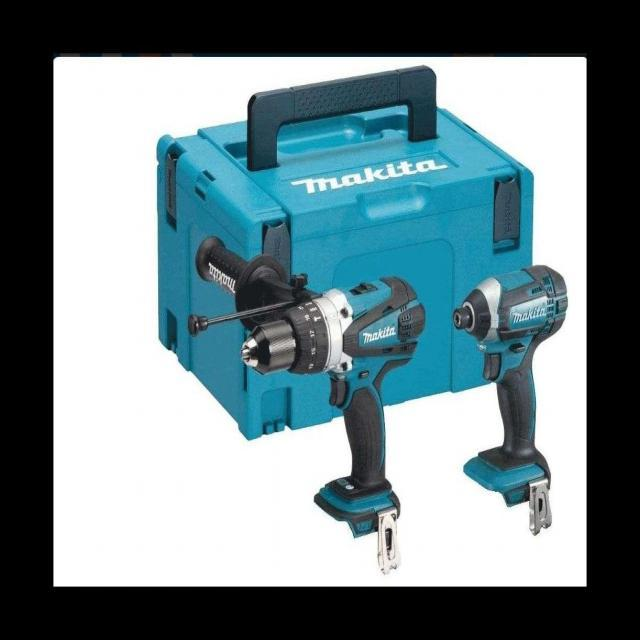drill: (196, 235, 402, 538), (454, 264, 568, 507)
